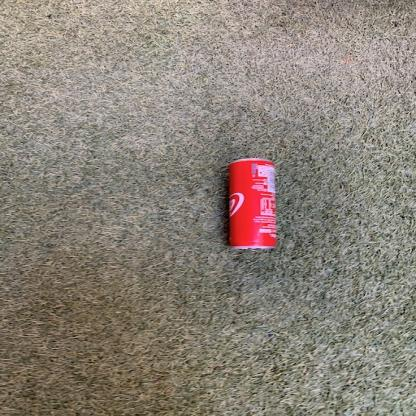trash: (227, 159, 278, 250)
